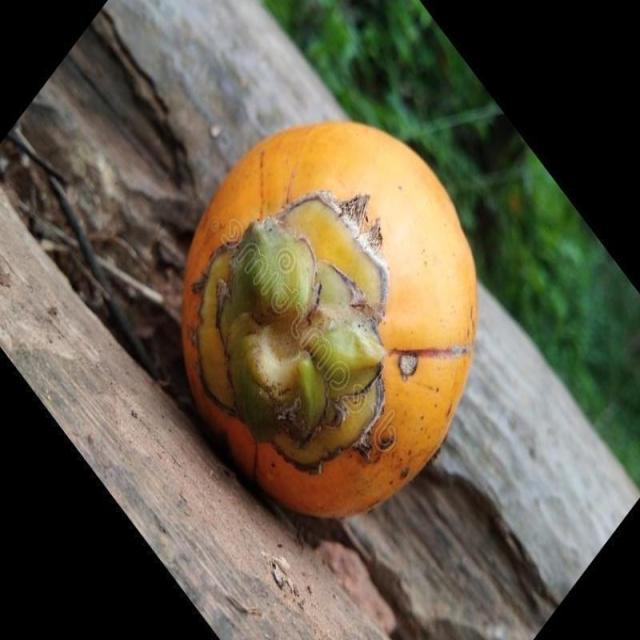good: (179, 122, 479, 523)
